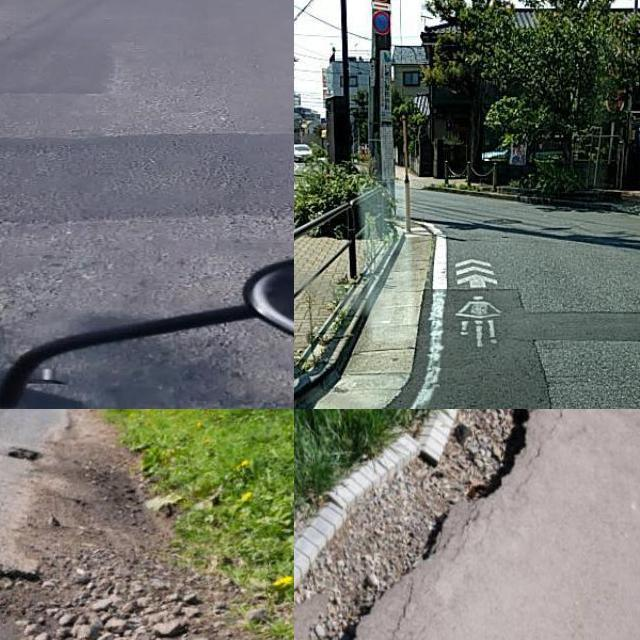Pinggir: (294, 409, 599, 640), (0, 438, 107, 640)
Sambungan: (0, 135, 294, 230), (386, 286, 554, 409), (538, 312, 640, 340)
